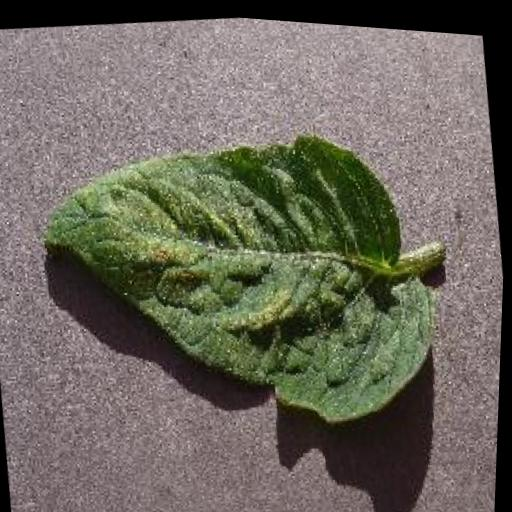Spider Mites: (24, 103, 454, 459)
